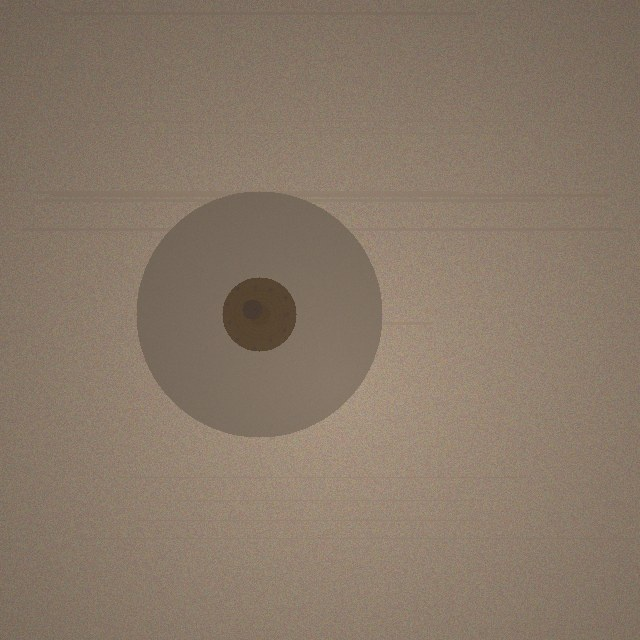cold_weld: (136, 191, 382, 437)
